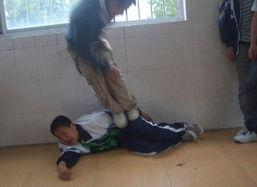Fall-Detected: (46, 100, 205, 179)
